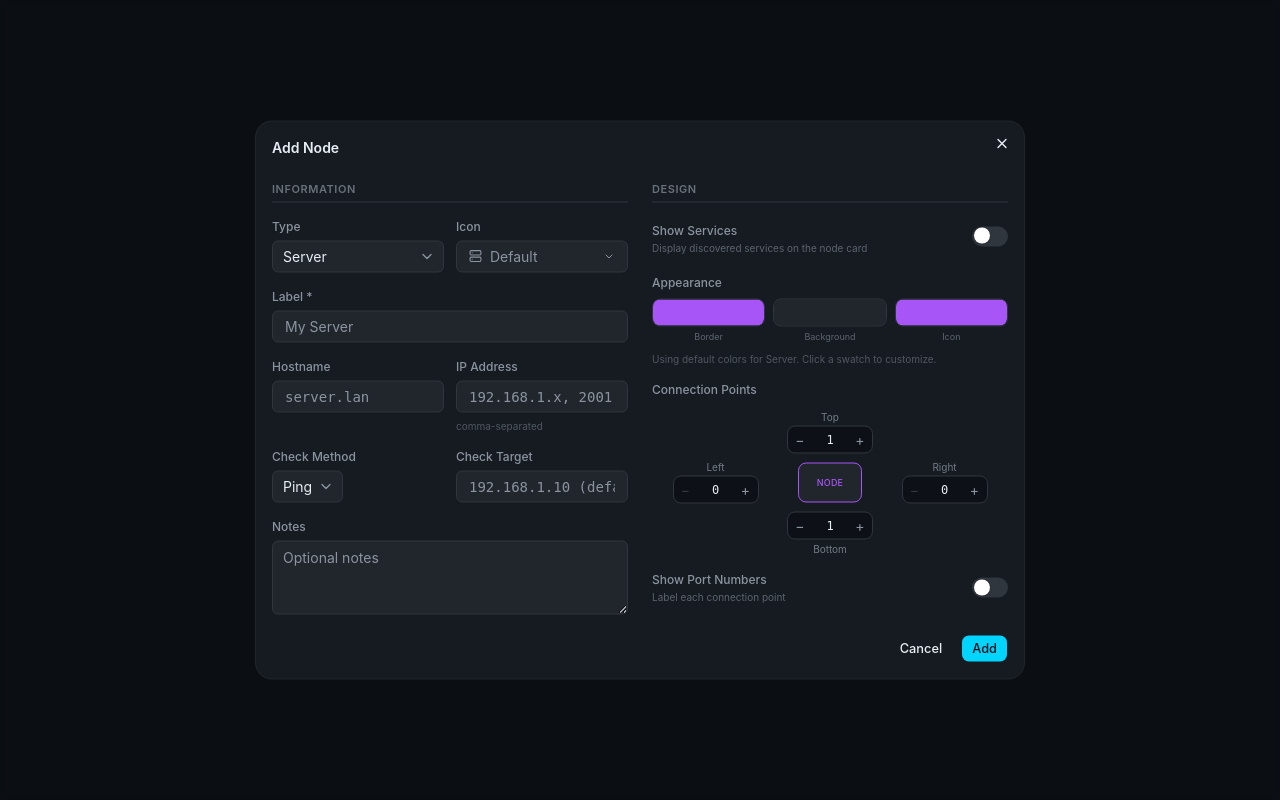
Test: NodeModal › clears label error when user starts typing
Click the button "Add".
click(985, 648)  # box [961,634,1008,662]
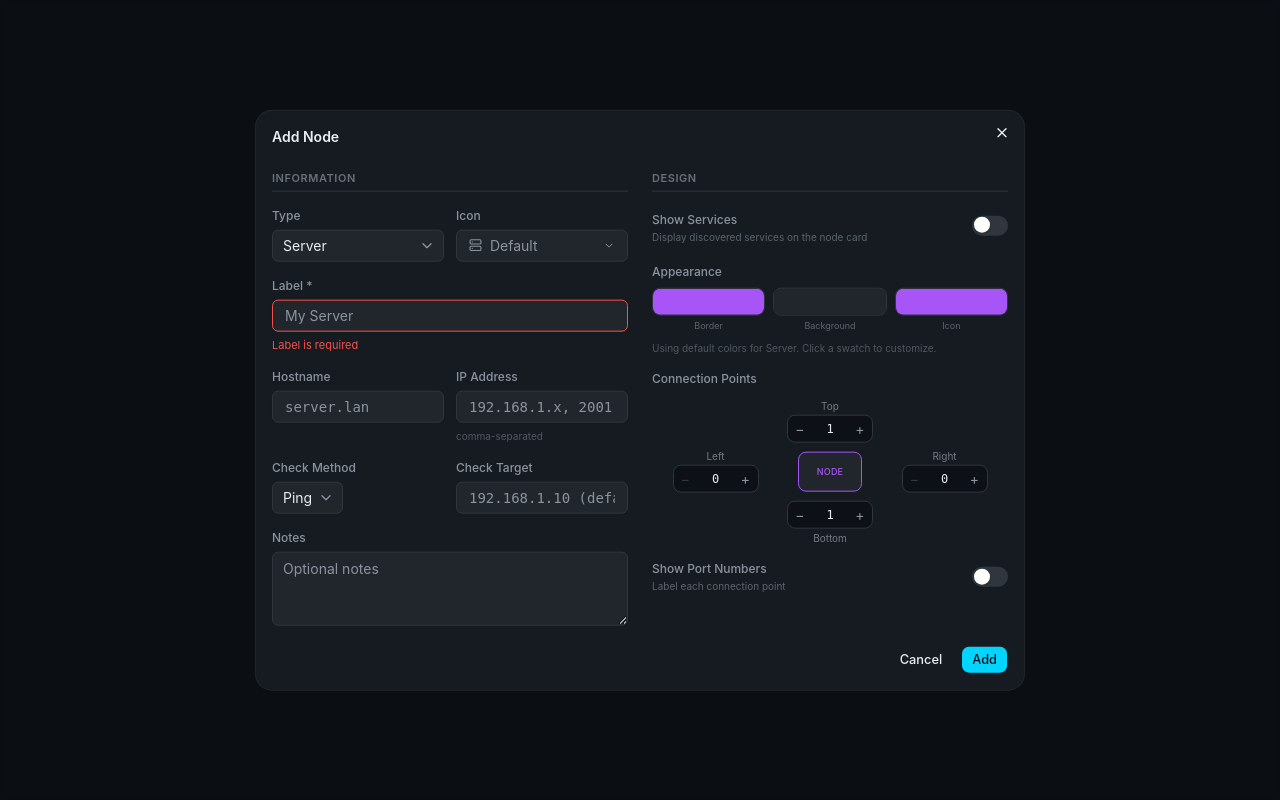
Type "x" into the field with placeholder "My Server".
click(450, 315); type("x")  # box [272,299,628,331]
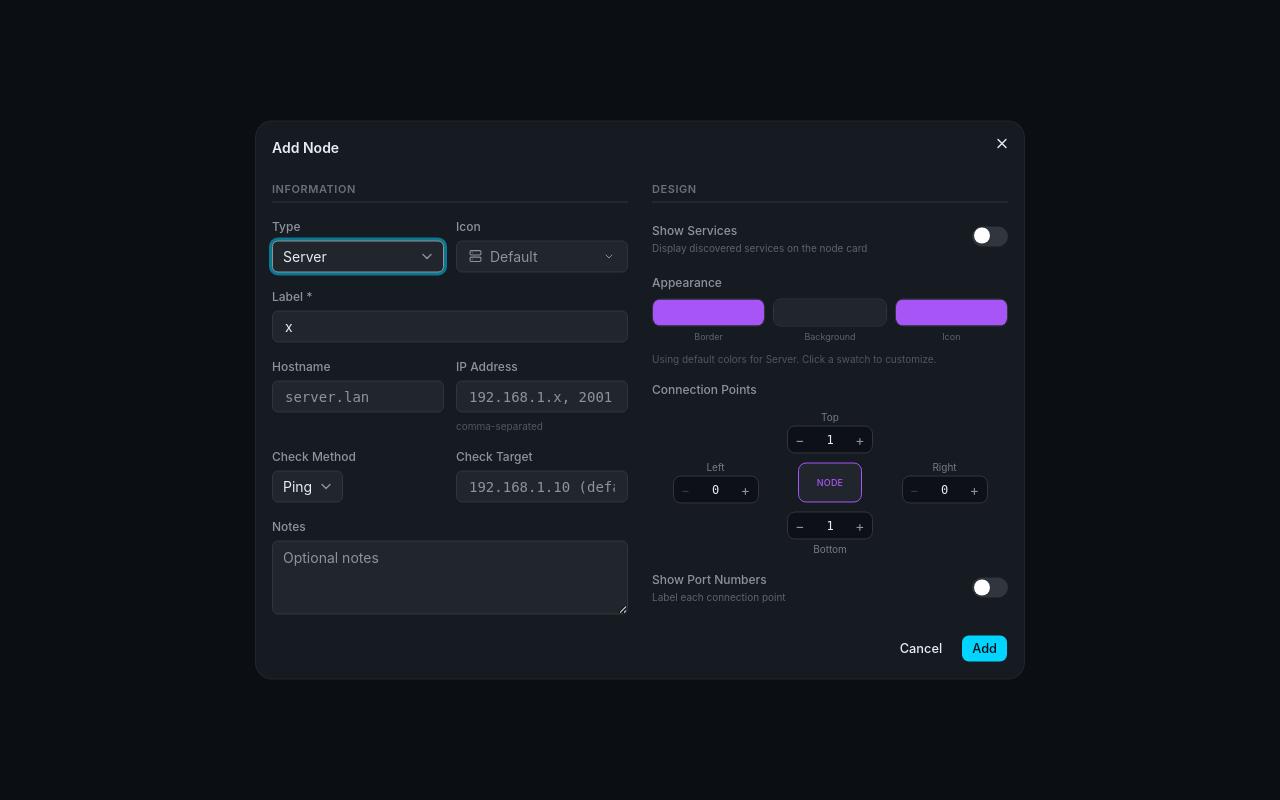
Expected: the text "Label is required" is gone
